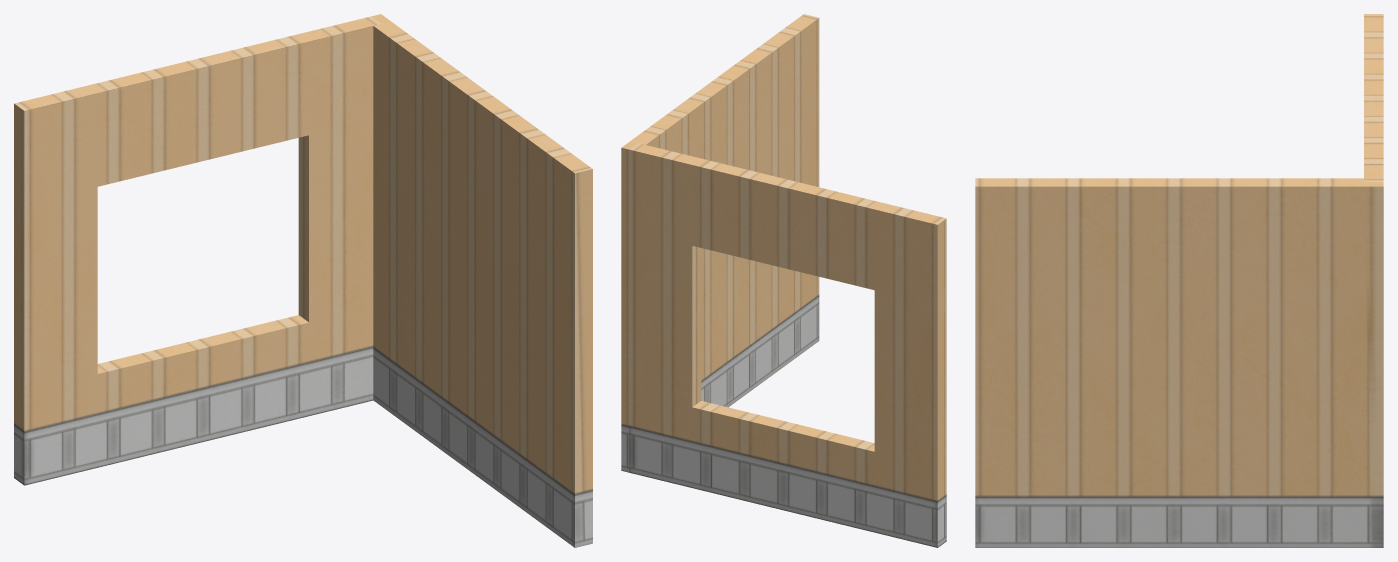
The model's file is Wall_8_Corner_C.fbx.
3 renders of one model, left to right at view 1: azimuth 30°, elevation 25°; view 2: azimuth 150°, elevation 25°; view 3: azimuth 270°, elevation 25°, orthographic. The views are drawn at different scales.
Visible parts, largest first — view 1: polySurface60; view 2: polySurface60; view 3: polySurface60.
Part boxes in pixels (x1,y1,x2,y2): polySurface60: (14, 14, 592, 547); polySurface60: (621, 14, 946, 547); polySurface60: (975, 14, 1383, 547).
Bounding box in the file's own units: 4.1 × 4 × 4.1.
